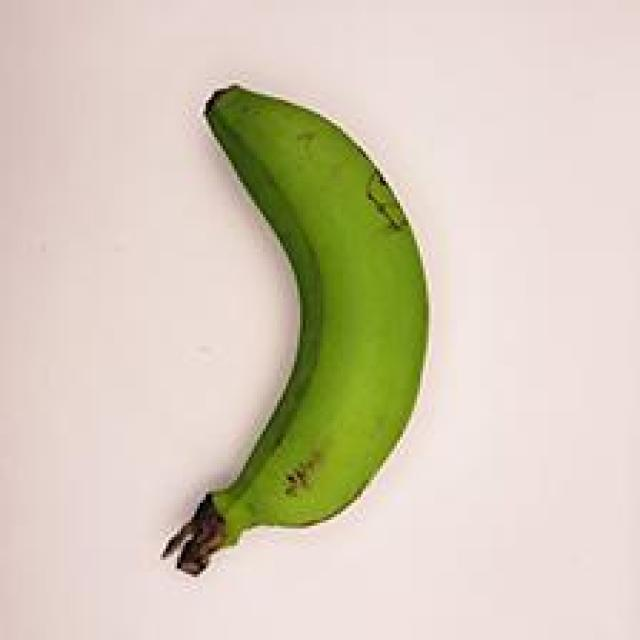Raw: (111, 55, 452, 603)
